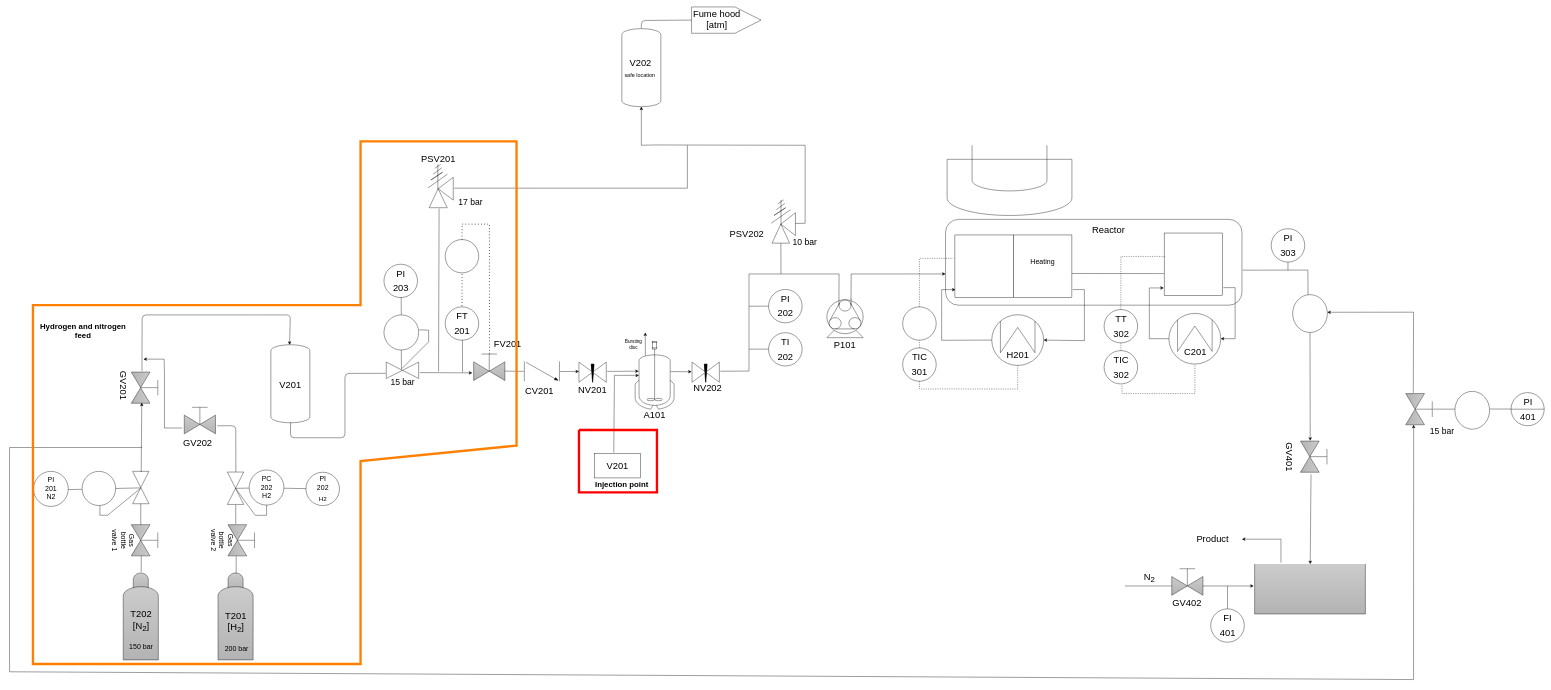
Image size: 1551x690. Some labels were removed from this diagram. Each missing label, with the centre of its shape:
"BPR 401" belongs at pixel 1309 313.
"Cooling" belongs at pixel 1193 264.
"FIC 201" belongs at pixel 462 256.
"LED 201" belongs at pixel 1009 180.
"Mixing" belongs at pixel 984 266.
"PC 201 N2" belongs at pixel 99 488.
"PC 203" belongs at pixel 401 332.
"PC 401" belongs at pixel 1472 410.
"TT 301" belongs at pixel 919 323.
"V301" belongs at pixel 1309 589.
